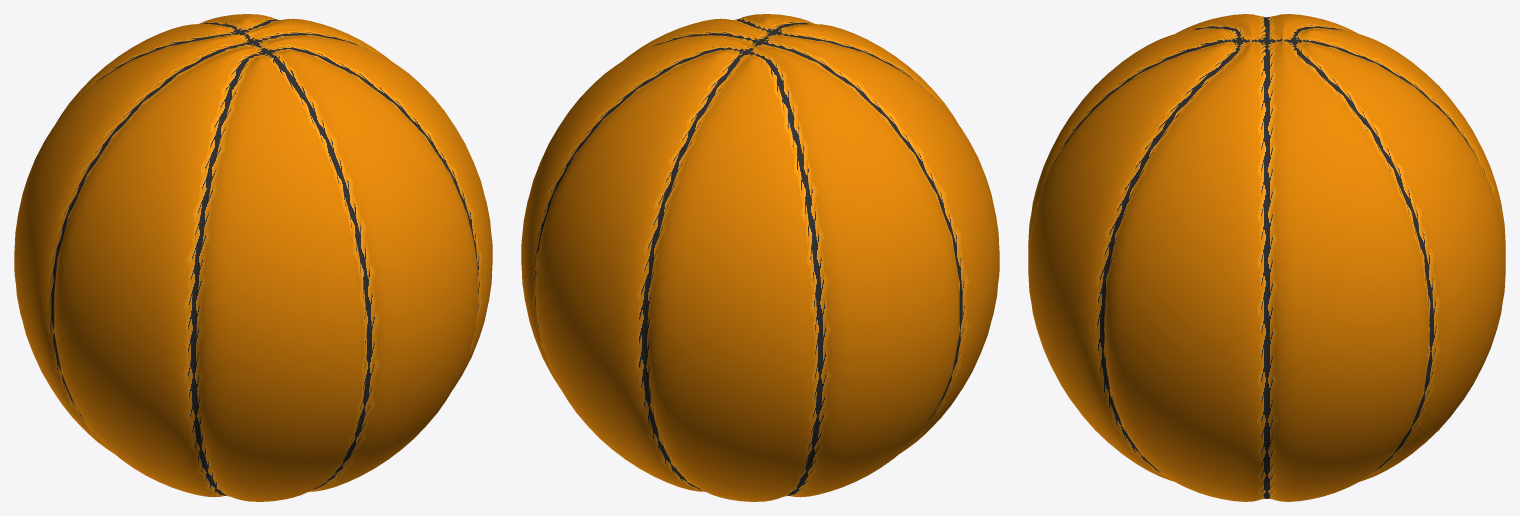
File: BasketBall .fbx
3 views of the same model, side by side, from view 1: azimuth 30°, elevation 25°; view 2: azimuth 150°, elevation 25°; view 3: azimuth 270°, elevation 25° (orthographic).
Parts seen in each view (by area): view 1: Sphere; view 2: Sphere; view 3: Sphere.
Part boxes in pixels (left/top/right/bottom): Sphere: left=14, top=14, right=492, bottom=501; Sphere: left=521, top=14, right=999, bottom=501; Sphere: left=1028, top=14, right=1505, bottom=501.
Size of the model in its own units: 45.24 by 46.01 by 45.24.
Materials: 1 (1 with a texture image).
